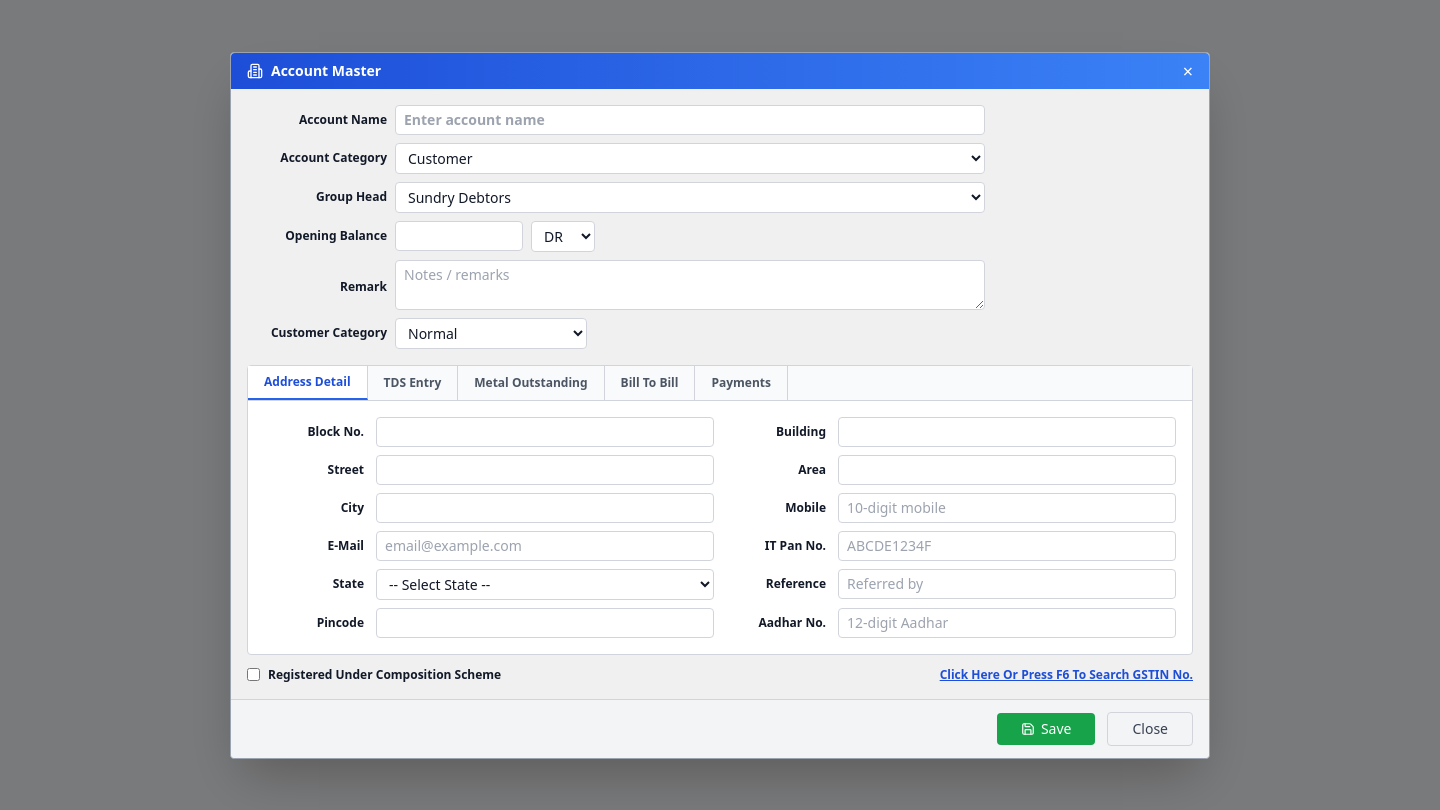
AccountMasterModal › tab navigation › shows "Coming Soon" for Metal Outstanding tab
The image size is (1440, 810).
Click the button "Metal Outstanding".
click(531, 382)  # box [458, 366, 604, 400]
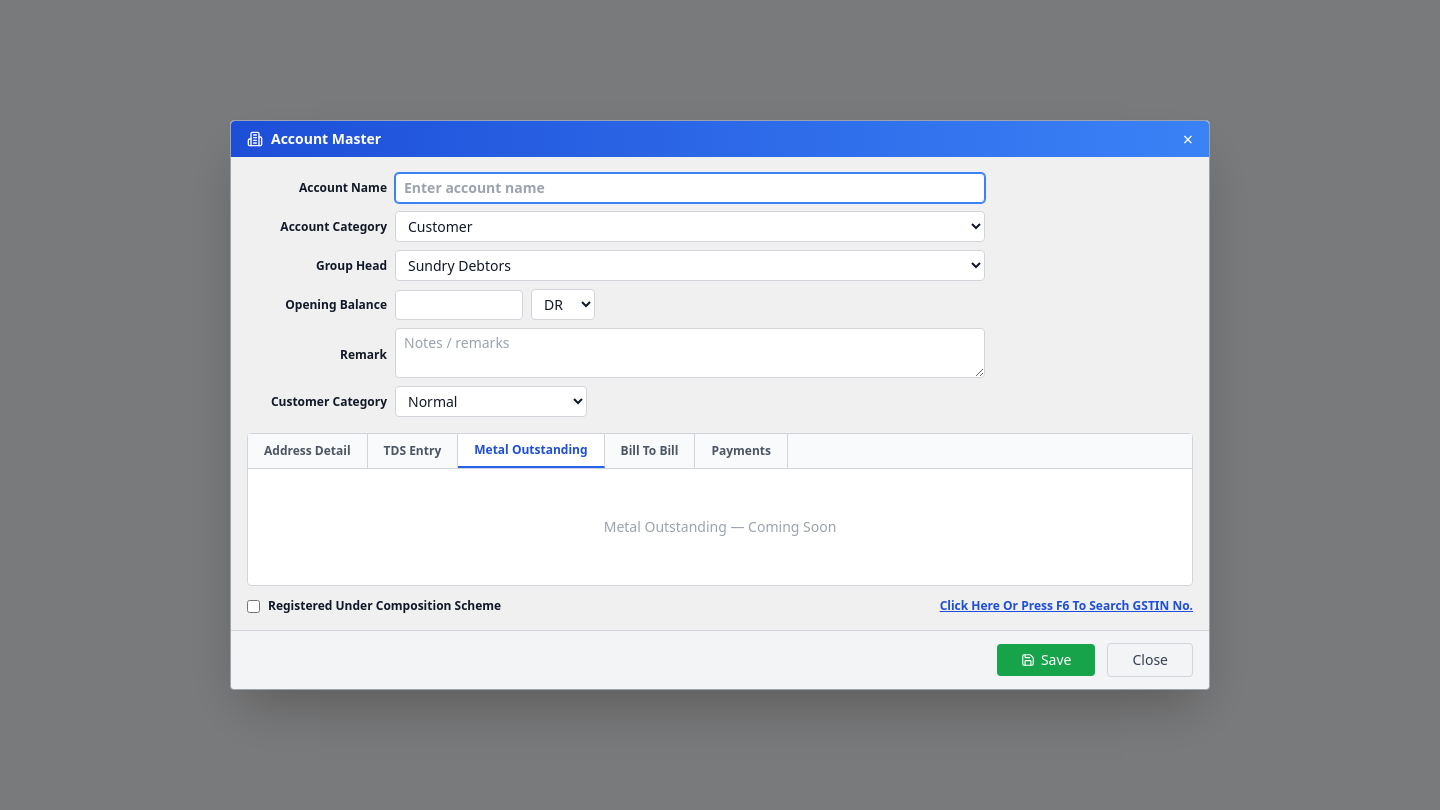
Now the text "Metal Outstanding — Coming Soon" is shown, box [604, 517, 836, 536]
